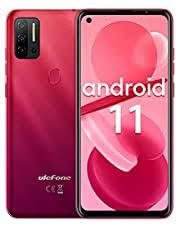Smartphone: (81, 9, 169, 214), (9, 8, 92, 218)
